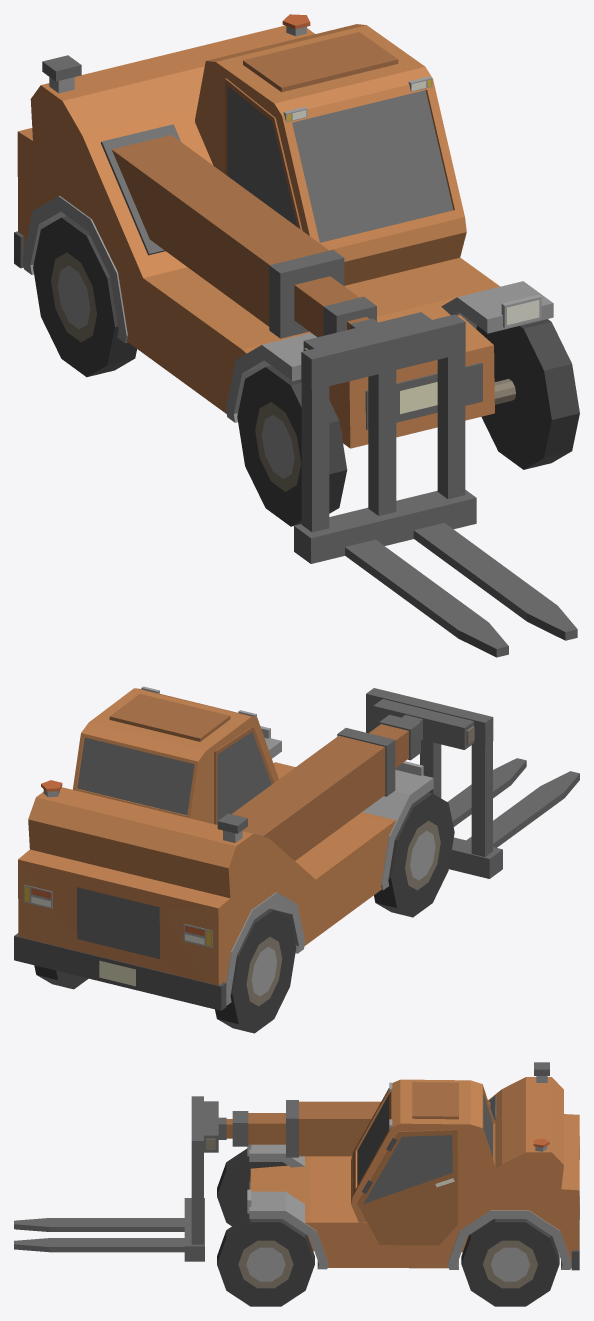
File: kar5_1.fbx
3 views of the same model, one above another, from view 1: azimuth 30°, elevation 25°; view 2: azimuth 150°, elevation 25°; view 3: azimuth 270°, elevation 25° (orthographic). The views are drawn at different scales.
Visible parts, largest first — view 1: Cylinder_5, Cube_26, Cube_17, Cylinder, Cylinder_4, Cylinder_3, Cube_23; view 2: Cylinder_5, Cube_26, Cube_17, Cylinder_3, Cylinder_4, Cube_23, Cylinder_2; view 3: Cylinder_5, Cube_26, Cylinder, Cylinder_2, Cube_17, Cylinder_3, Cube_23, Cube_21.
Part boxes in pixels (x1,y1,x2,y2): Cylinder_5: (14,14,553,448); Cube_26: (294,312,577,657); Cube_17: (111,135,344,338); Cylinder: (476,319,579,469); Cylinder_4: (33,216,136,377); Cylinder_3: (237,365,347,526); Cube_23: (294,276,376,337); Cylinder_5: (14,686,433,1010); Cube_26: (366,688,579,878); Cube_17: (217,728,395,860); Cylinder_3: (374,792,454,917); Cylinder_4: (215,908,296,1033); Cube_23: (369,714,420,767); Cylinder_2: (34,965,88,989); Cylinder_5: (247,1062,579,1270); Cube_26: (14,1096,218,1261); Cylinder: (217,1215,314,1306); Cylinder_2: (461,1219,559,1306); Cube_17: (286,1100,490,1157); Cylinder_3: (217,1148,287,1225); Cube_23: (232,1111,285,1146); Cube_21: (206,1117,232,1149).
Size of the model in its own units: 199 by 196 by 542.
